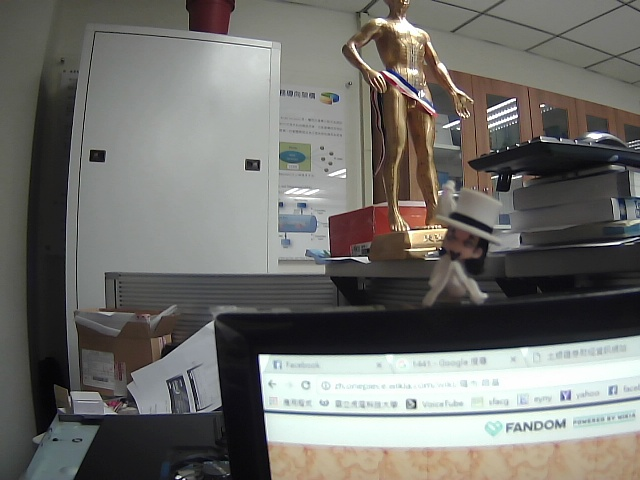lucci: (427, 177, 506, 314)
